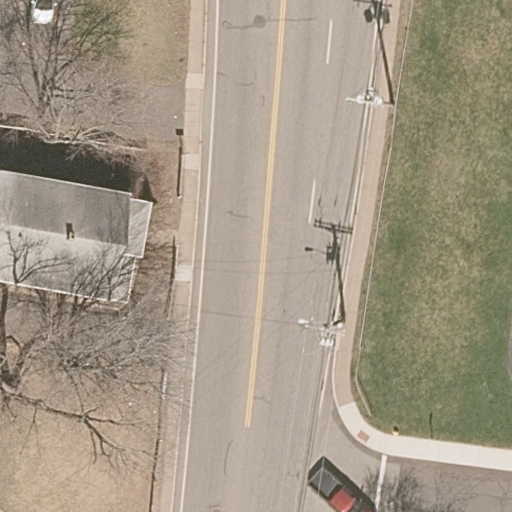DT: (297, 316, 346, 350), (344, 86, 396, 110)
